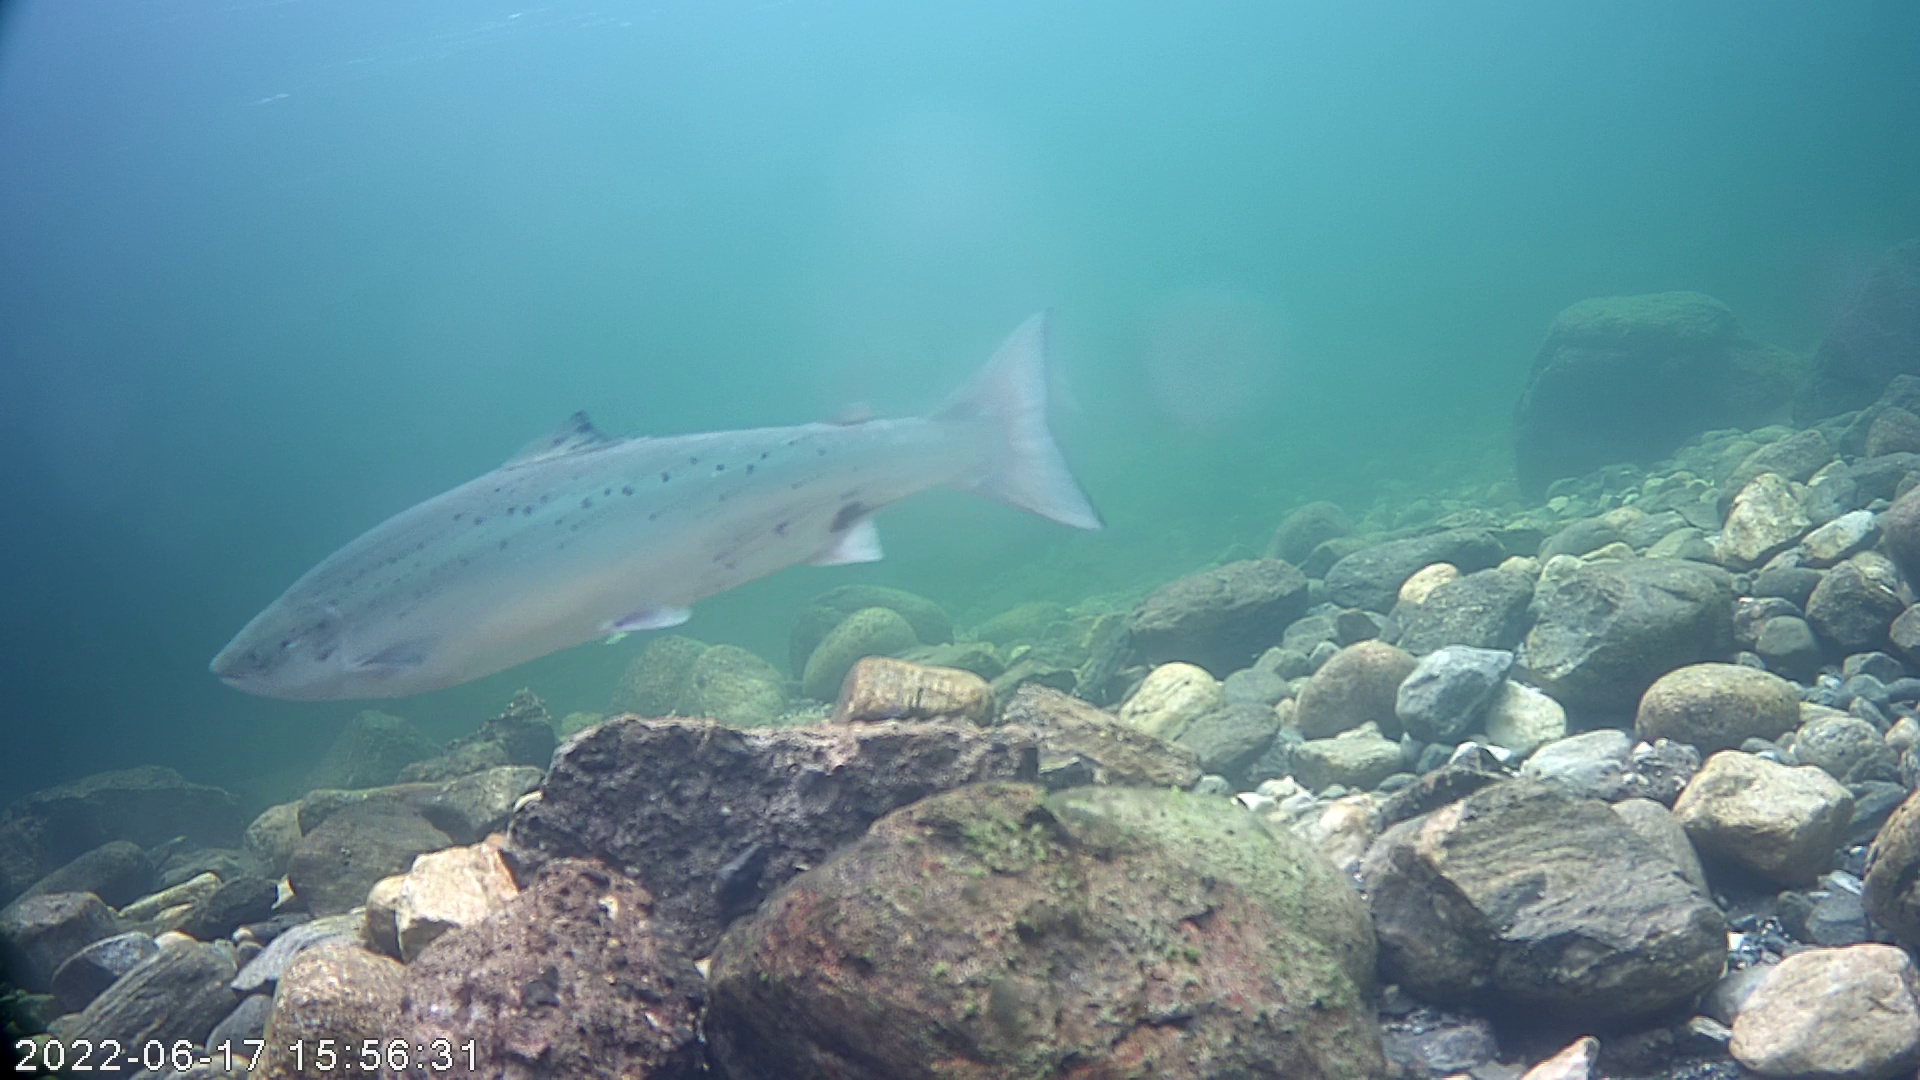salmon: (206, 302, 1112, 705)
